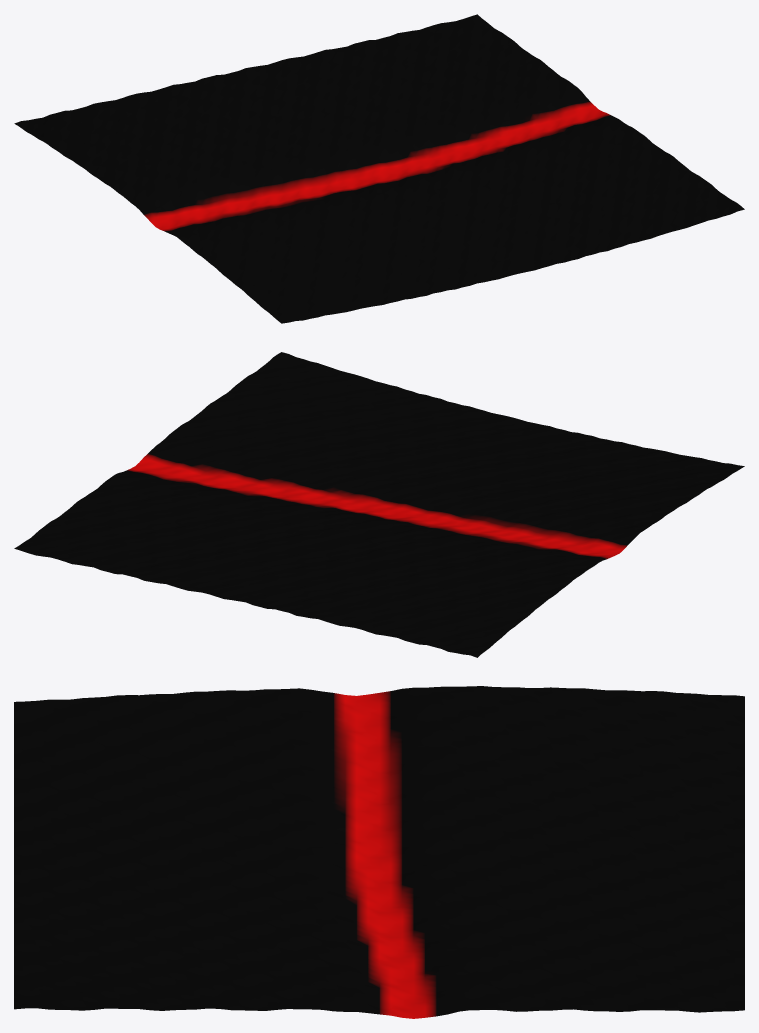
Rendered from lab_terrain.glb.
3 renders of one model, top to bottom at view 1: azimuth 30°, elevation 25°; view 2: azimuth 150°, elevation 25°; view 3: azimuth 270°, elevation 25°, orthographic. The views are drawn at different scales.
Visible parts, largest first — view 1: lab_terrain; view 2: lab_terrain; view 3: lab_terrain.
Boxes of the visible parts, box(x1,y1,x2,y2) form: lab_terrain: box(14, 14, 744, 323); lab_terrain: box(14, 352, 744, 657); lab_terrain: box(14, 686, 744, 1018).
Bounding box in the file's own units: 64 × 2.69 × 64.
